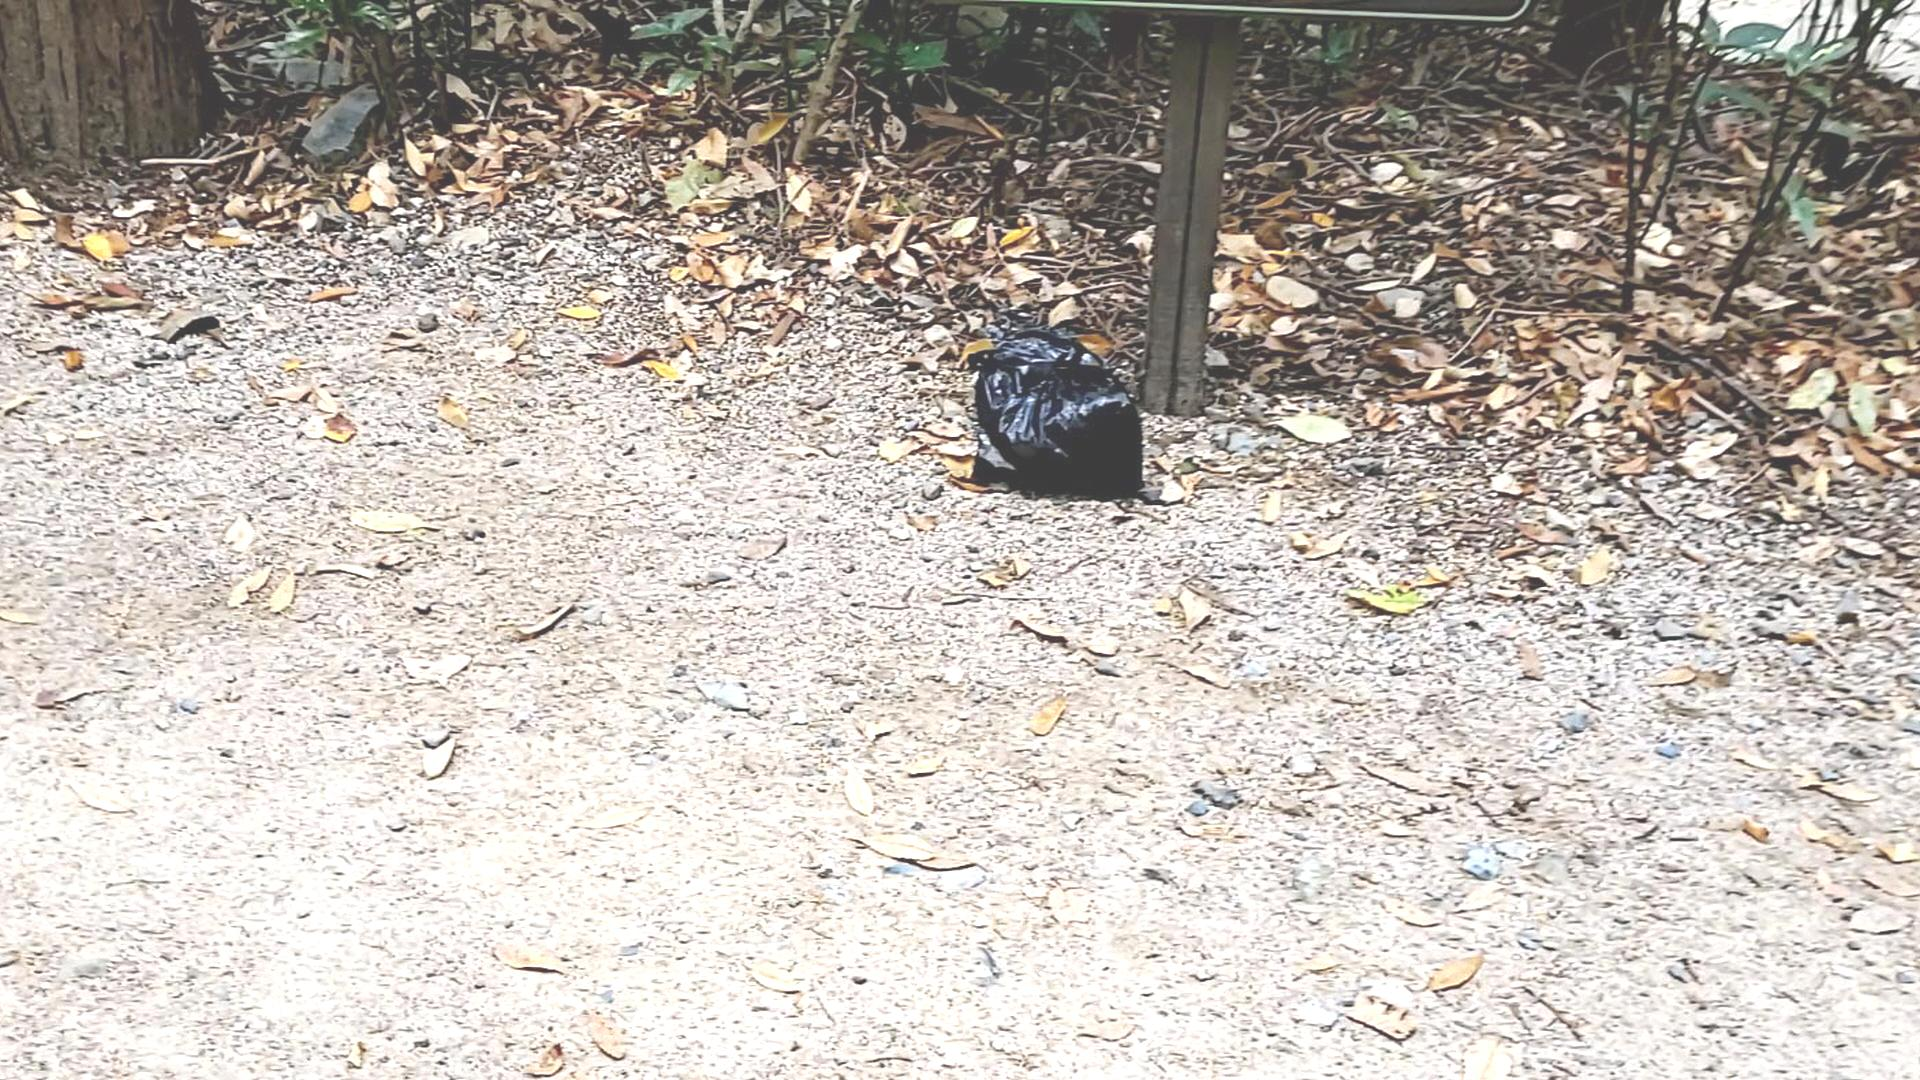black_bag: (953, 309, 1164, 514)
